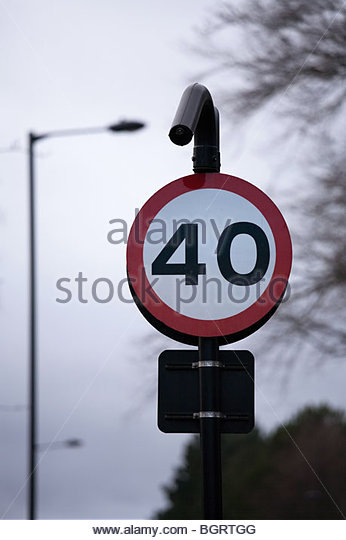Speed_limit_40km: (127, 175, 294, 339)
